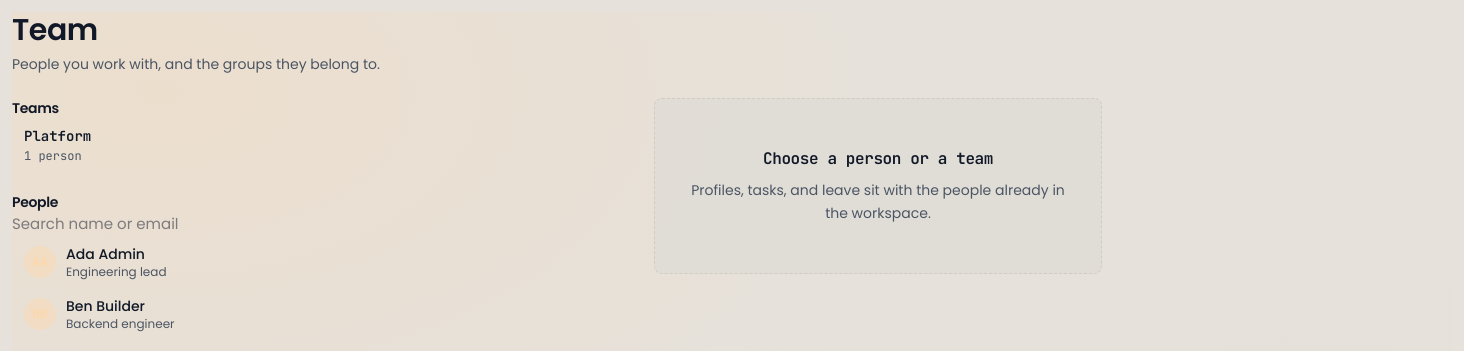
Test: TeamView – add team member › hides team management controls from members without teams.manage
The width and height of the screenshot is (1464, 351).
Click the button "Platform 1 person": (58, 136) [12,118,284,172]
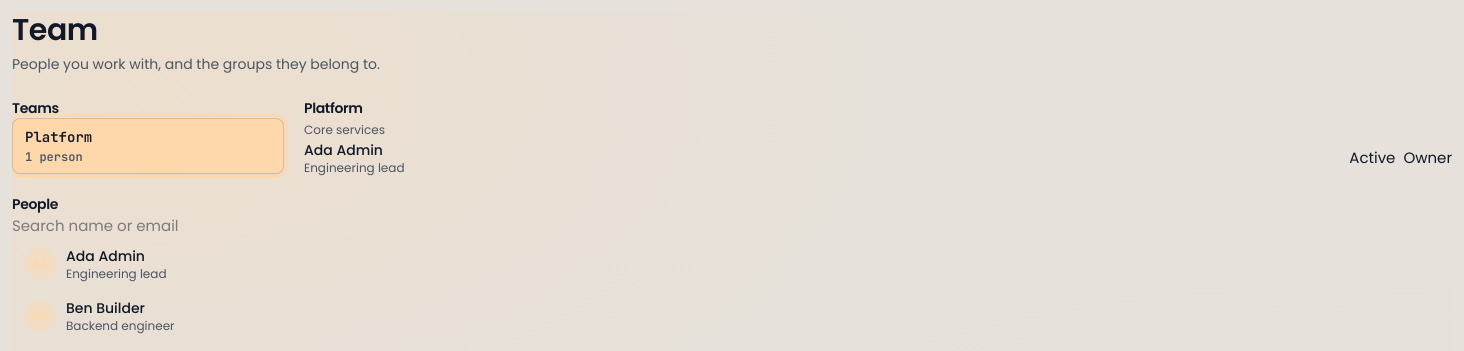
Check: the heading "Platform" is shown, box [304,98,363,118]
Check: the text "Ada Admin" in the row of "Active" is shown, box [304,140,383,160]
